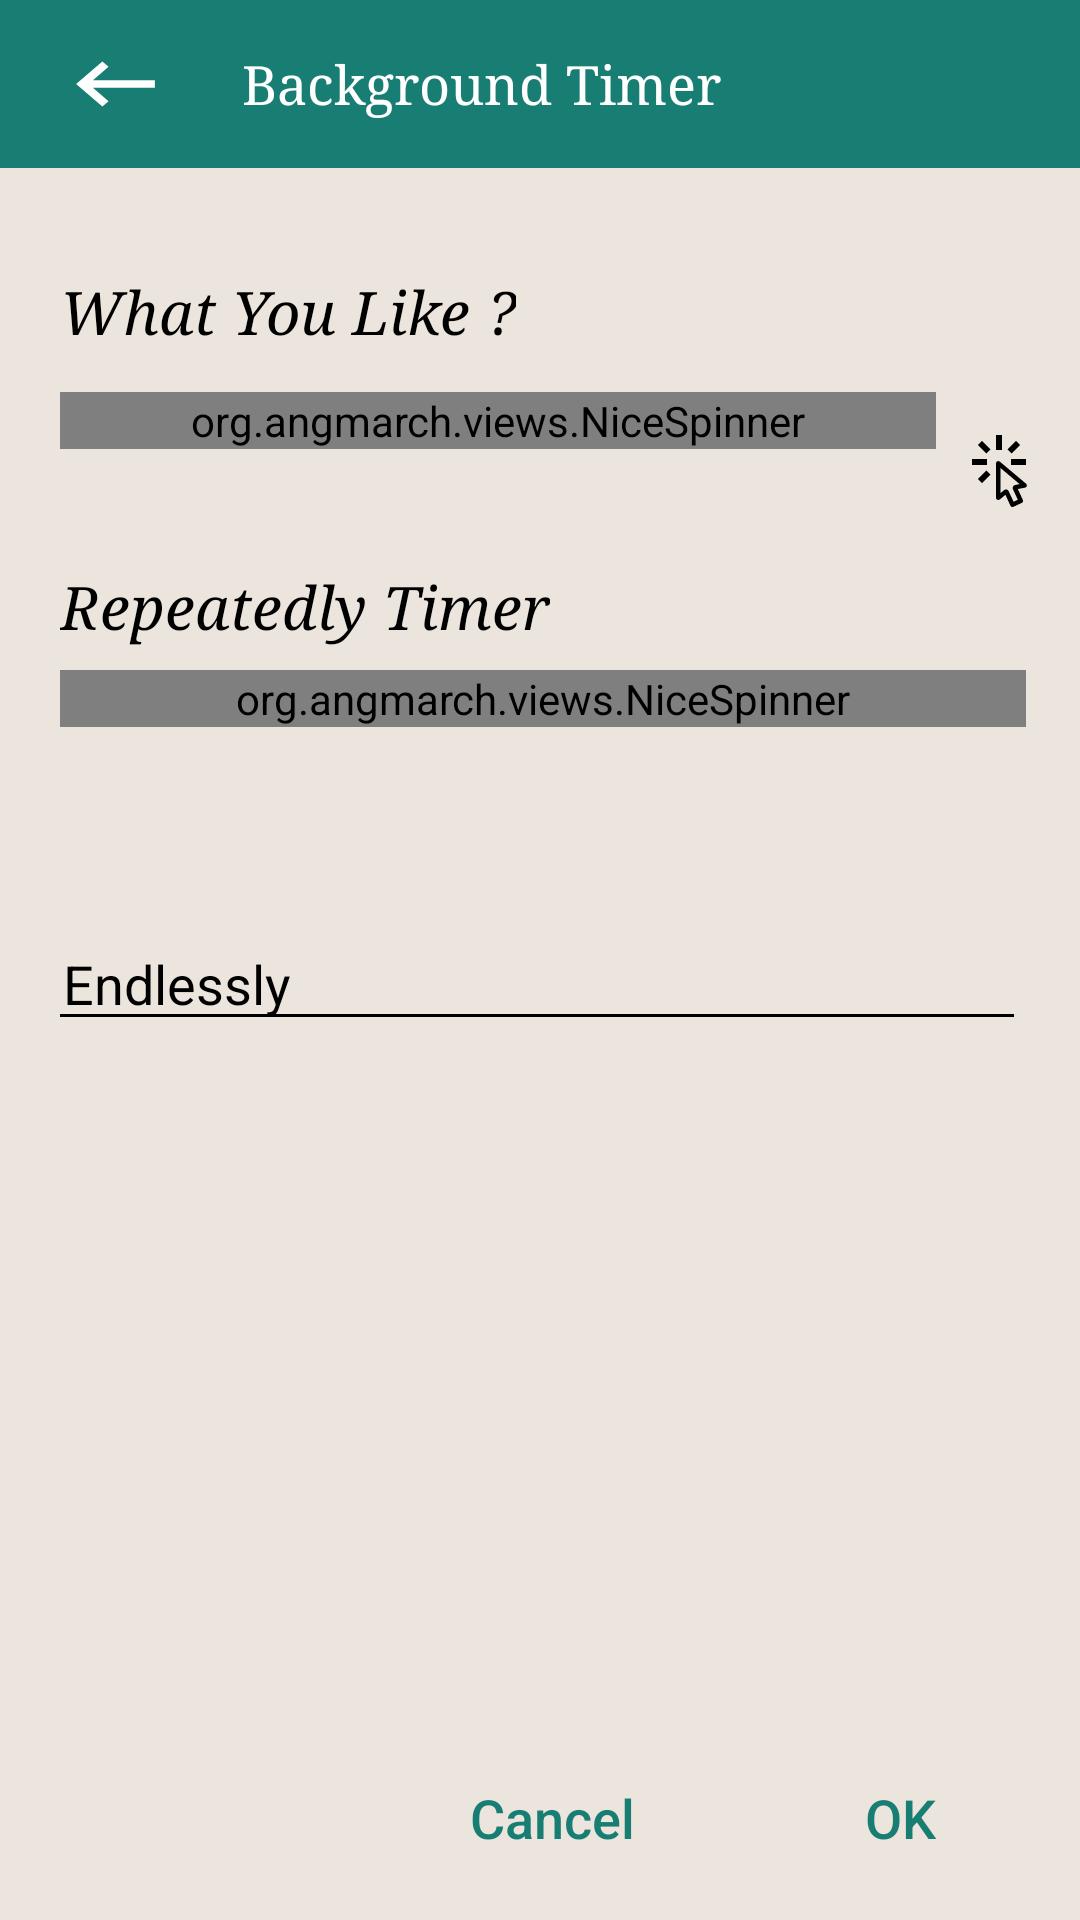

Where icons sit on this 1080w x 1920h app screen, as (x1, y1, x2, y2):
back arrow: (76, 61, 155, 107)
click something: (972, 435, 1027, 507)
